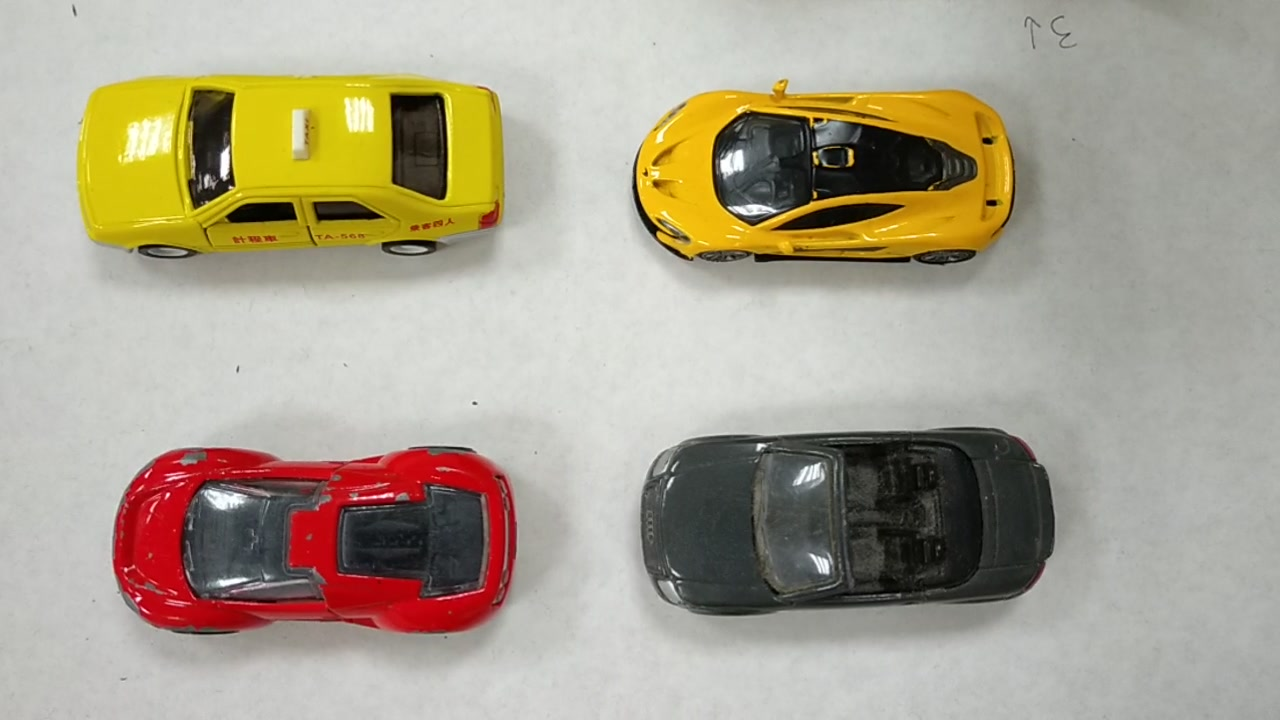car: (637, 425, 1073, 611), (109, 456, 524, 634), (625, 95, 1022, 279), (76, 83, 507, 252)
